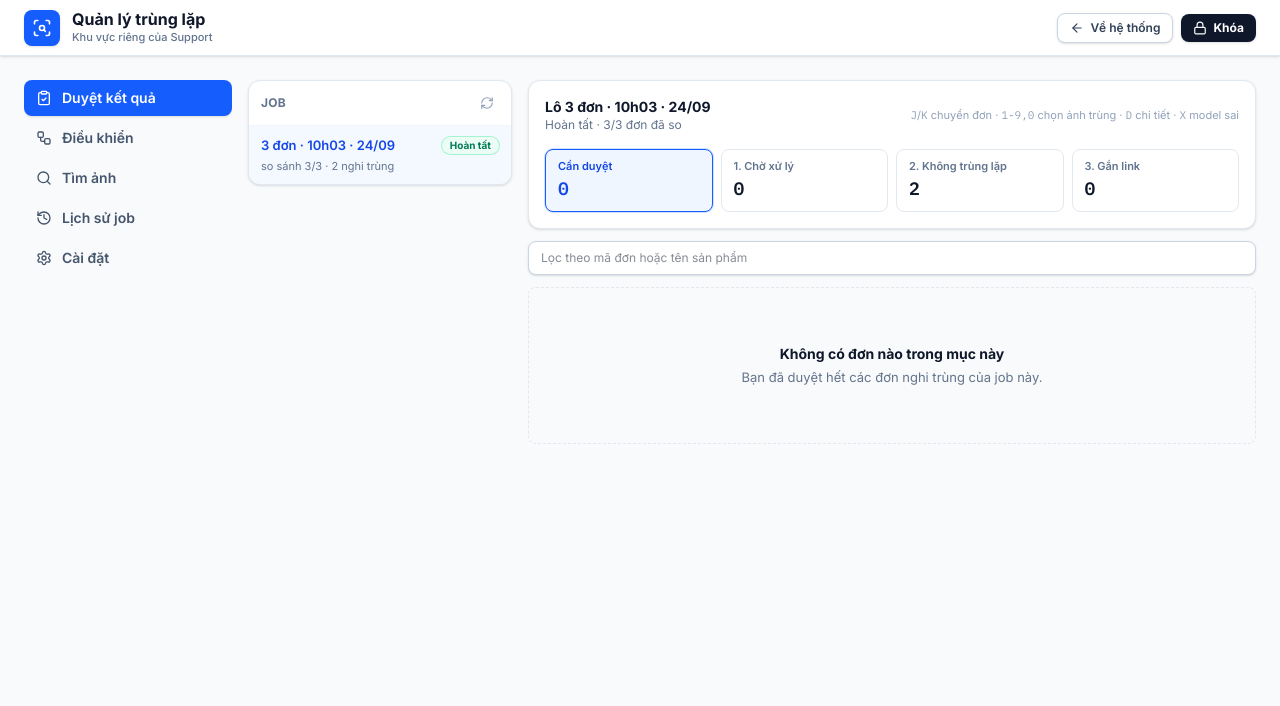
Scenario: duplicate review page › filters the orders of a tab by code or product name
Click the tab "2. Không trùng lặp 2" at [980, 180], box [896, 149, 1064, 212]
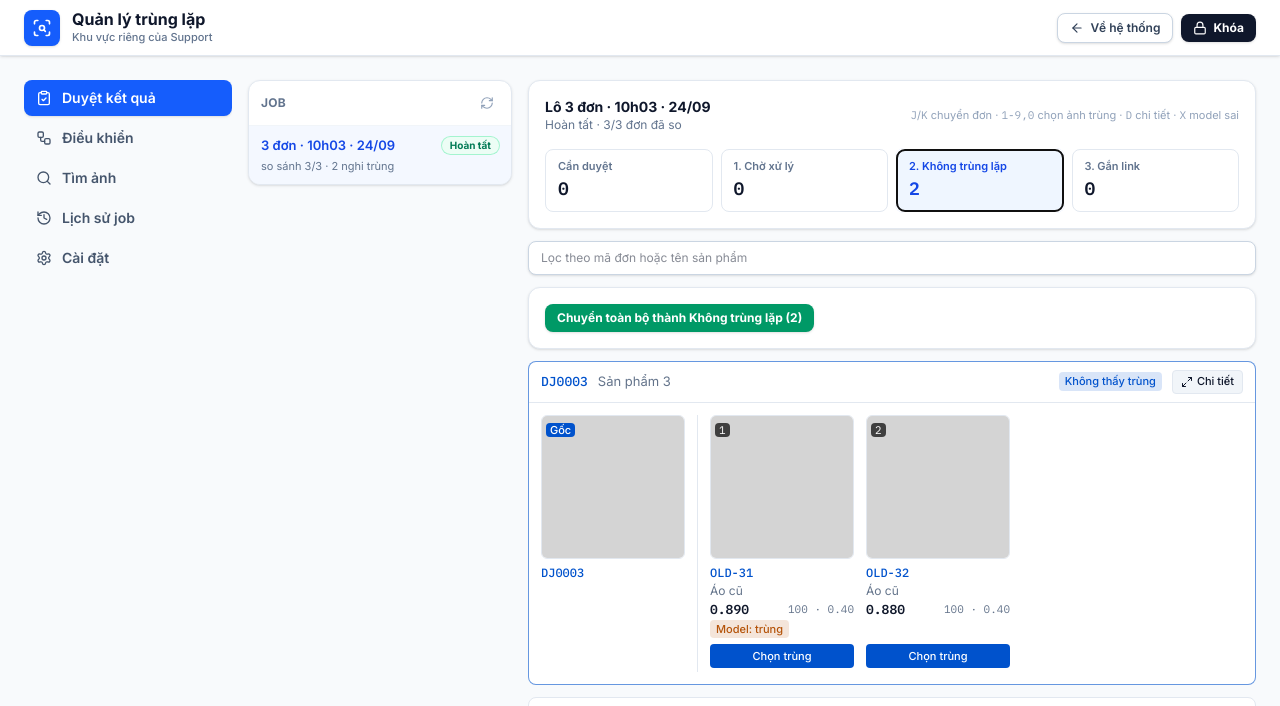
Result: the element with test id "order-DJ0003" is shown at [528, 360, 1256, 685]
Type "bills" into the search field labelled "Lọc theo mã đơn hoặc tên" at [892, 258], box [528, 240, 1256, 274]
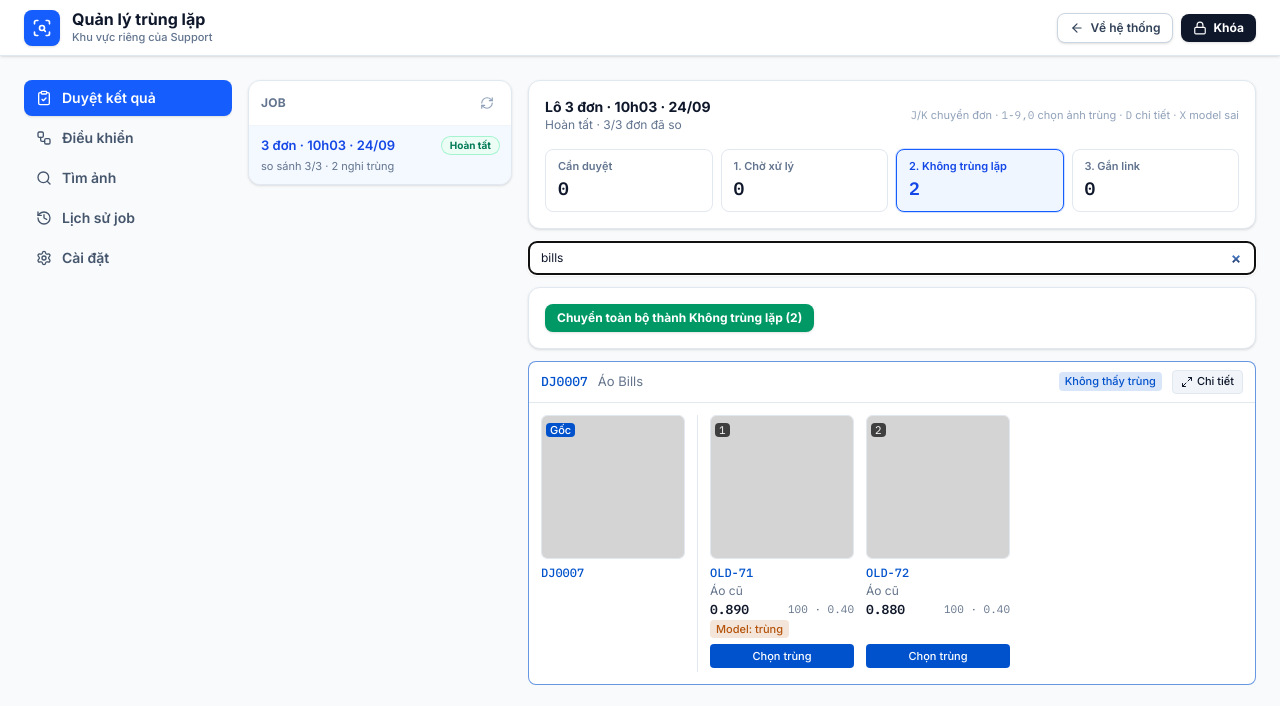
Result: the element with test id "order-DJ0007" is shown at [528, 360, 1256, 685]
Result: the element with test id "order-DJ0003" is gone
